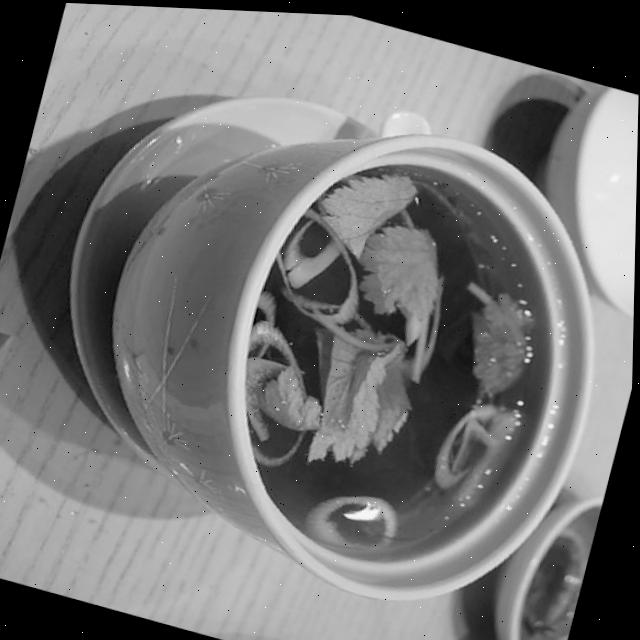汤锅炖物: (146, 79, 639, 640)
